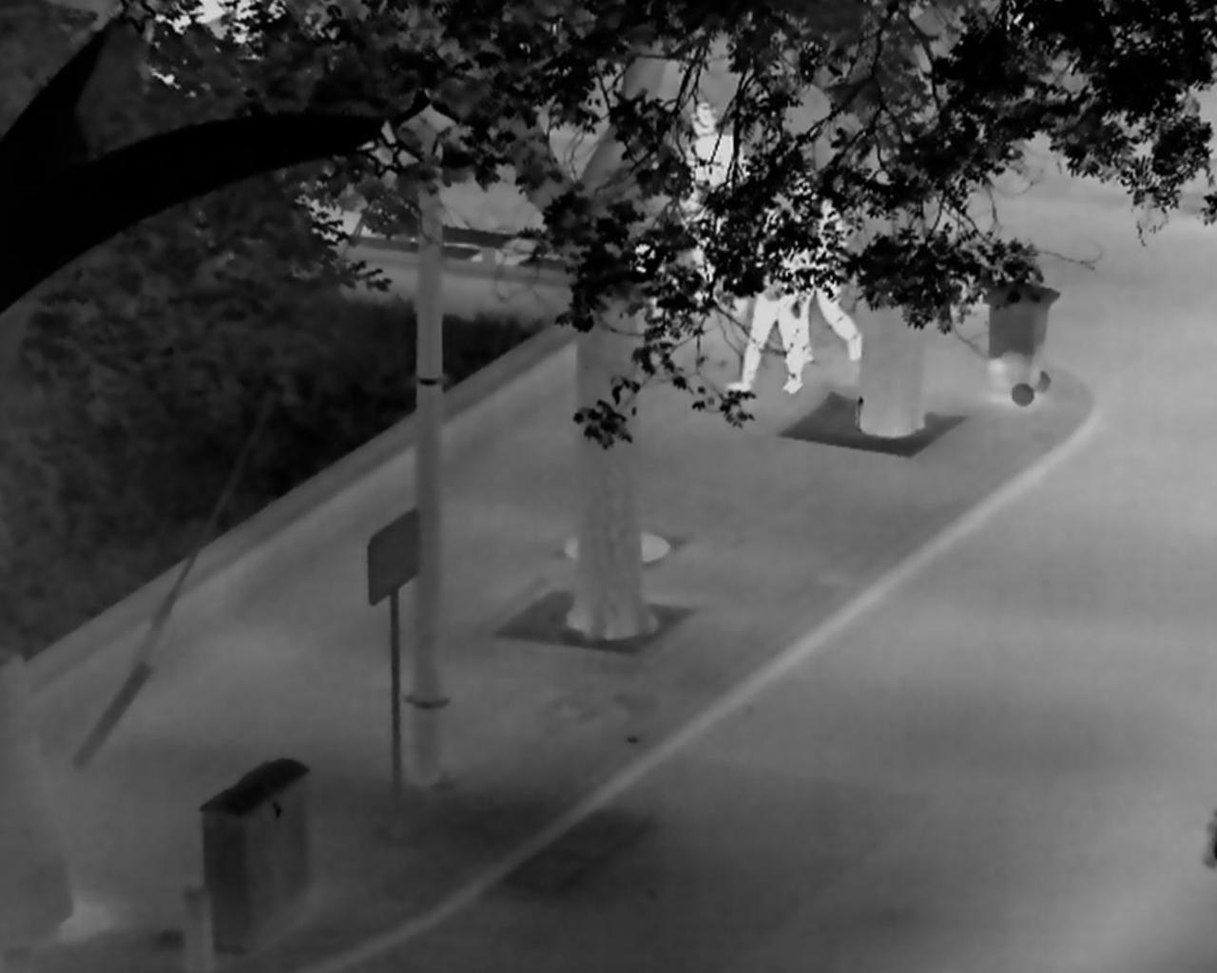person: (780, 177, 862, 361), (676, 101, 746, 313), (732, 201, 802, 395)
